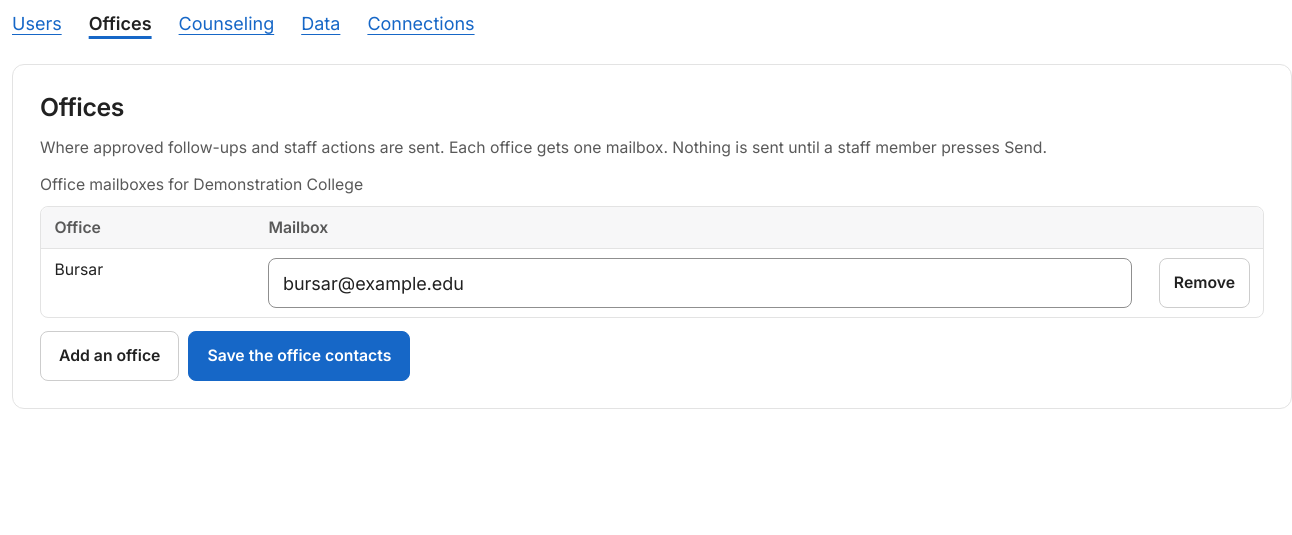
Test: Institution Offices — the book › adds an office and saves the whole book, then says so
The width and height of the screenshot is (1292, 535).
Expected: the field named "Mailbox for Bursar" is shown, left=268, top=258, right=1132, bottom=308
Click the button "Add an office".
click(110, 356)  # box left=40, top=331, right=179, bottom=381
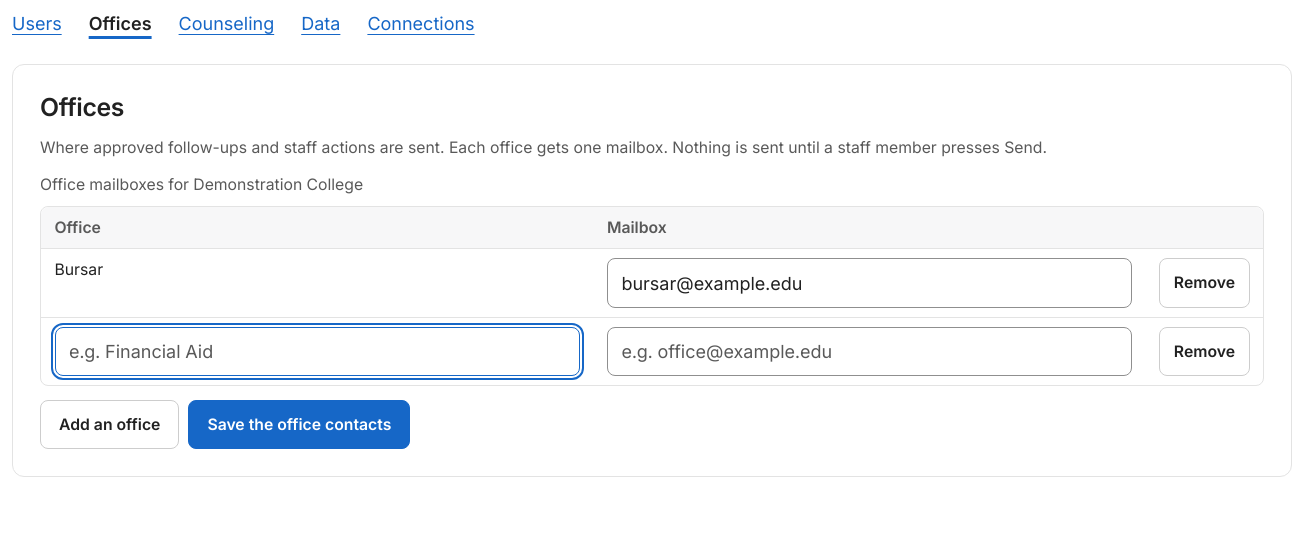
Type "Financial Aid" into the field named "Office name, row 2".
click(317, 352); type("Financial Aid")  # box left=54, top=327, right=580, bottom=376
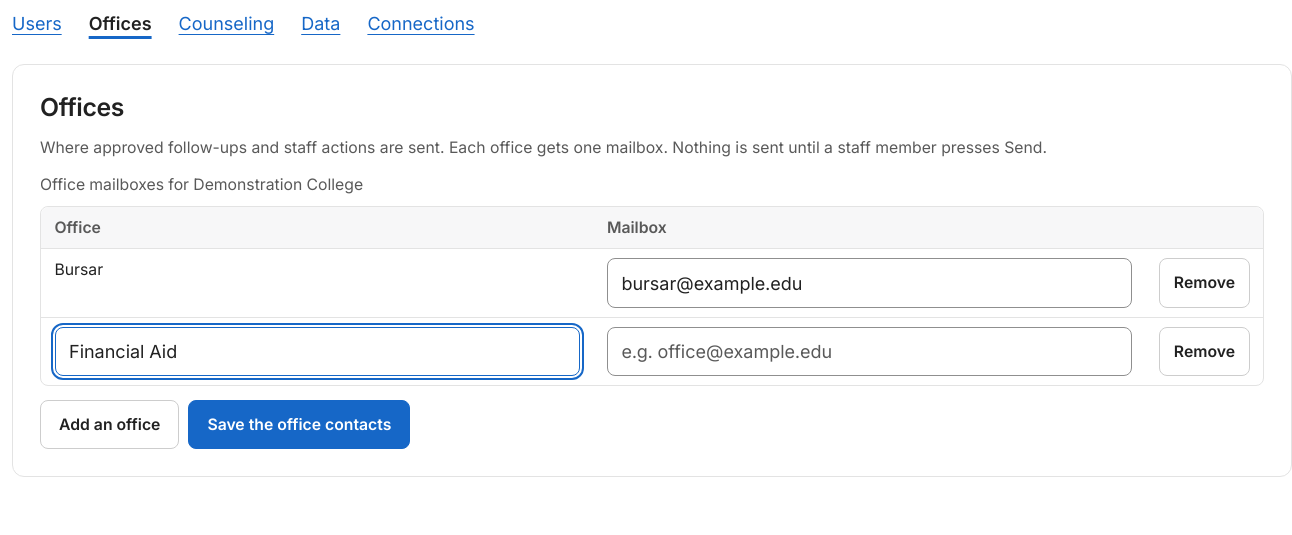
Type " financial-aid@example.edu " into the field named "Mailbox for Financial Aid".
click(870, 352); type(" financial-aid@example.edu ")  # box left=607, top=327, right=1132, bottom=376
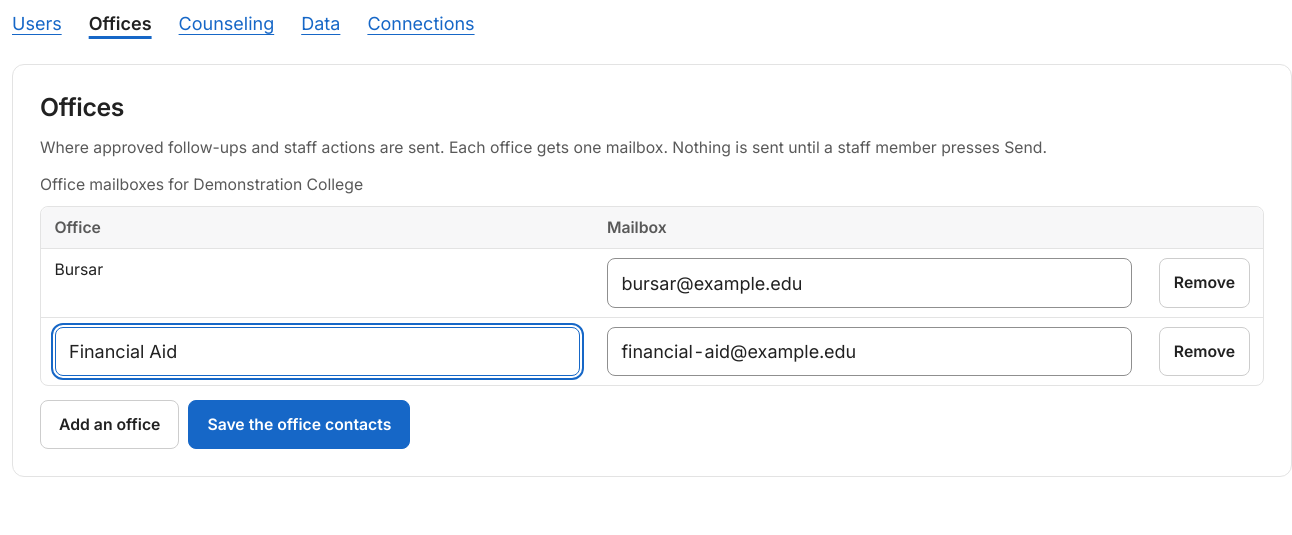
Click the button "Save the office contacts".
click(299, 425)  # box left=188, top=400, right=410, bottom=449
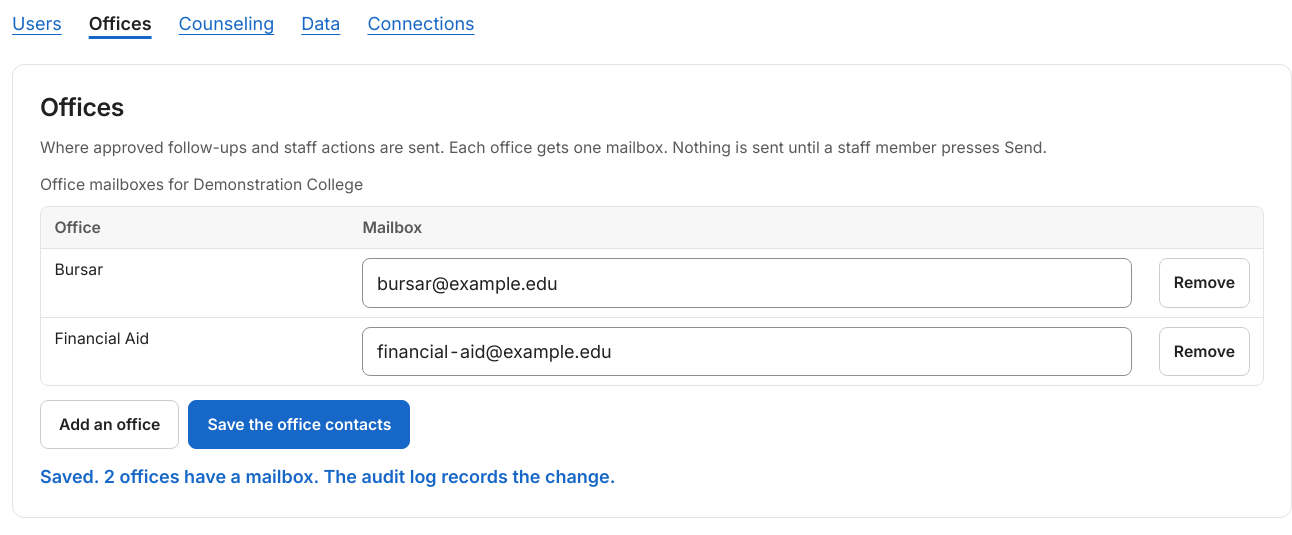
Result: the text "Saved. 2 offices have a mailbox. The audit log records the change." is shown at left=40, top=466, right=616, bottom=487
